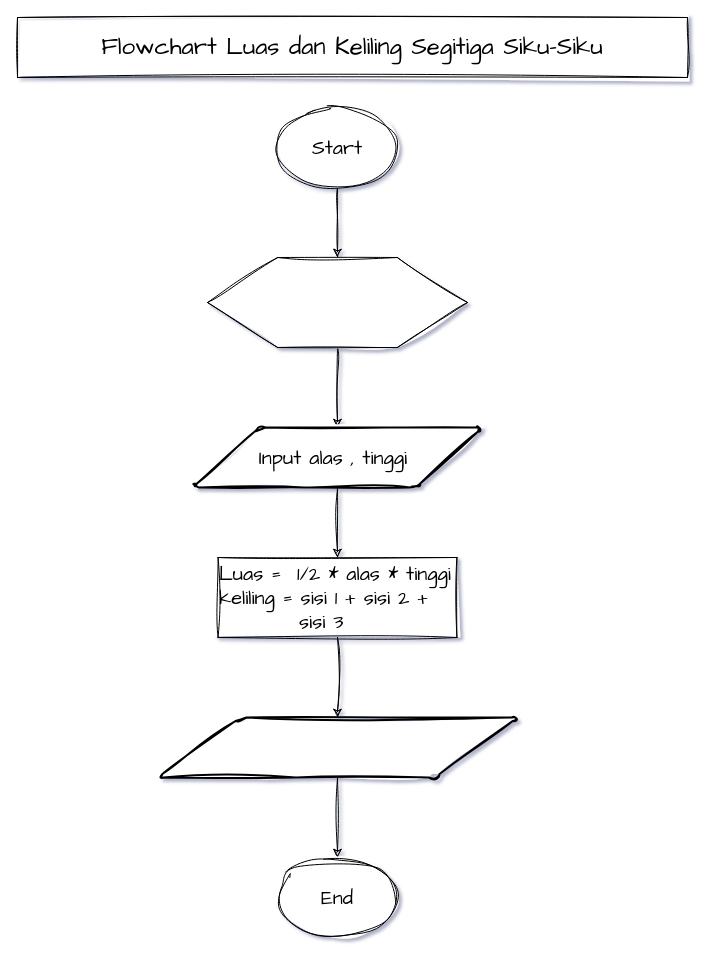
Image size: 711x961. Some labels were removed from this diagram. The shapes that lost their labels are listed below. From the top down, each one's centre as x and y in pixels, then its label:
At point 337,302: "Float , alas , tinggi Segitiga siku-siku".
At point 337,747: "Tampilkan Luas dan keliling".
